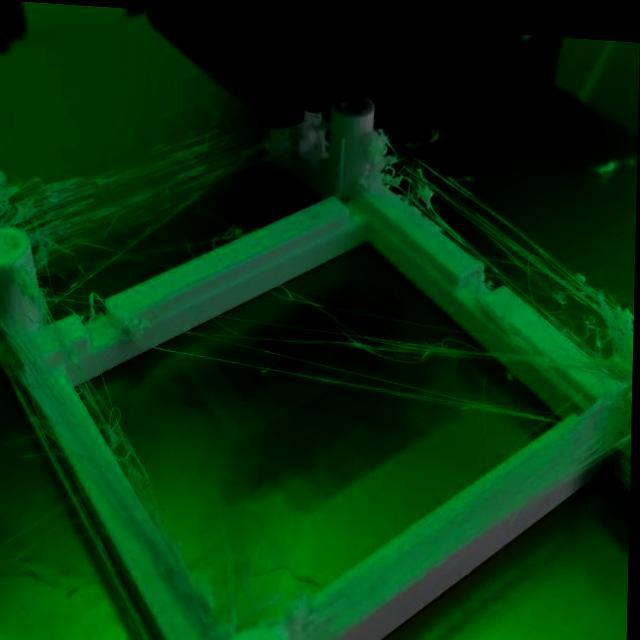stringing: (371, 122, 631, 342), (0, 102, 258, 283), (178, 333, 538, 419), (175, 305, 621, 370), (73, 361, 158, 500)
